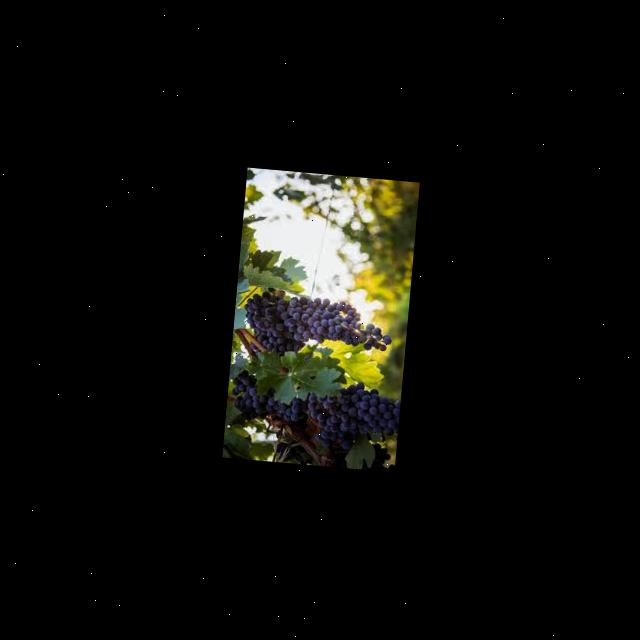grape: (224, 368, 400, 454), (238, 288, 394, 366)
